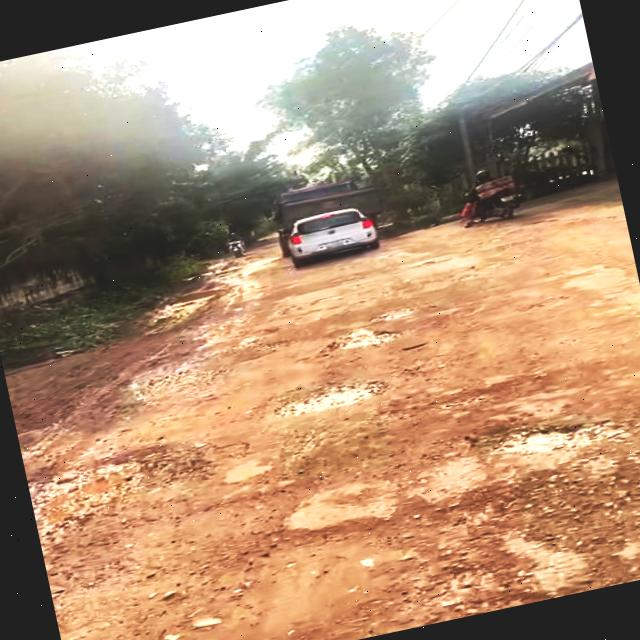pothole: (27, 448, 164, 540), (268, 372, 392, 422), (488, 411, 602, 464), (320, 321, 406, 358)
